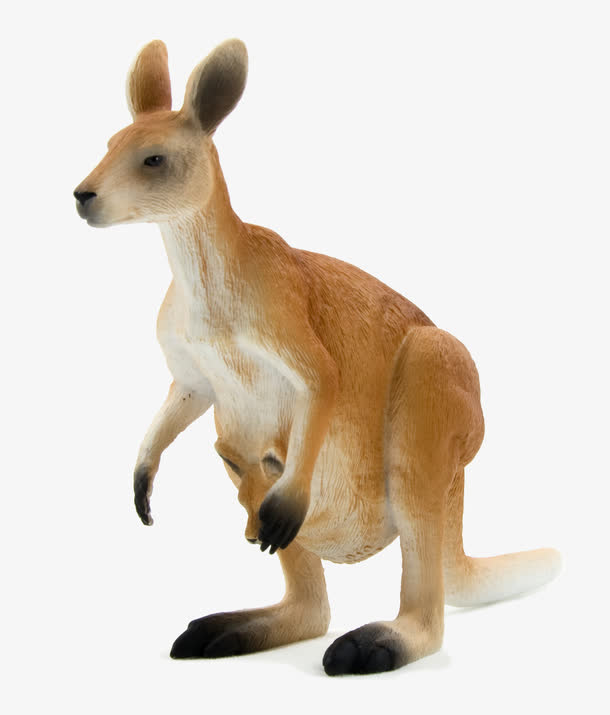kangaroo: (67, 38, 564, 677)
